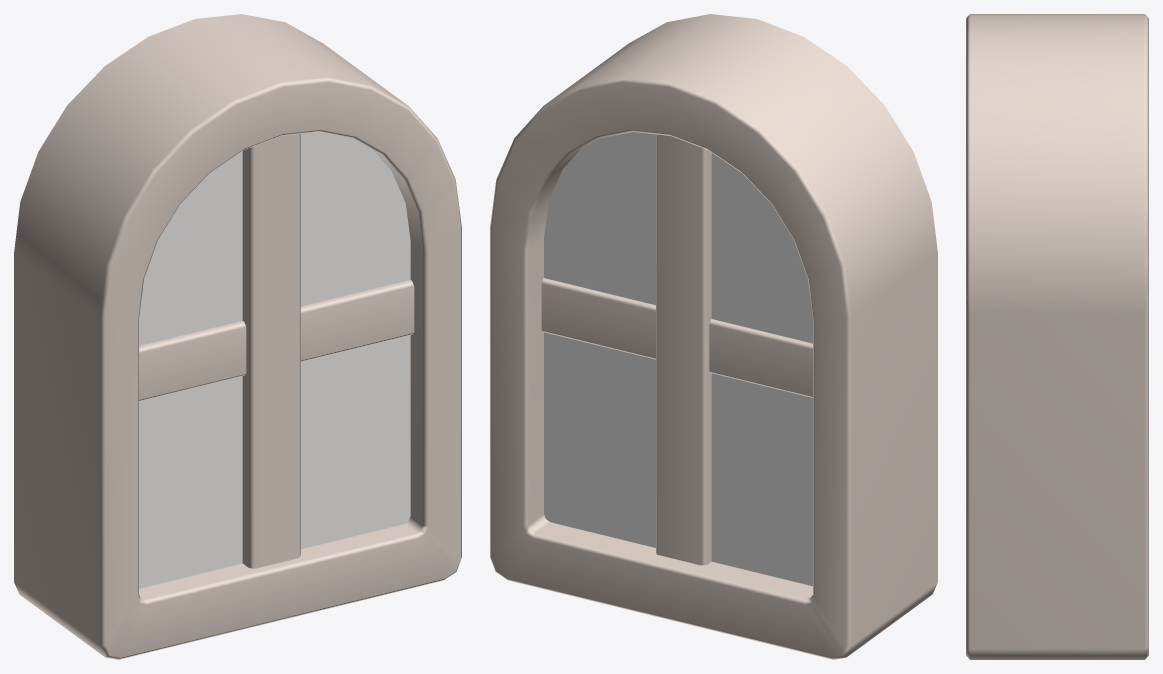
Rendered from Window_6.glb.
The picture shows the model from 3 angles, left to right: view 1: azimuth 30°, elevation 25°; view 2: azimuth 150°, elevation 25°; view 3: azimuth 270°, elevation 25°; orthographic projection.
Parts seen in each view (by area): view 1: Window_10; view 2: Window_10; view 3: Window_10.
Part boxes in pixels (bbox=[...]): Window_10: bbox=[14, 14, 461, 659]; Window_10: bbox=[490, 14, 937, 659]; Window_10: bbox=[966, 14, 1148, 659].
Bounding box in the file's own units: 1.1 × 1.56 × 0.4733.
Materials: 2 (2 with a texture image).
